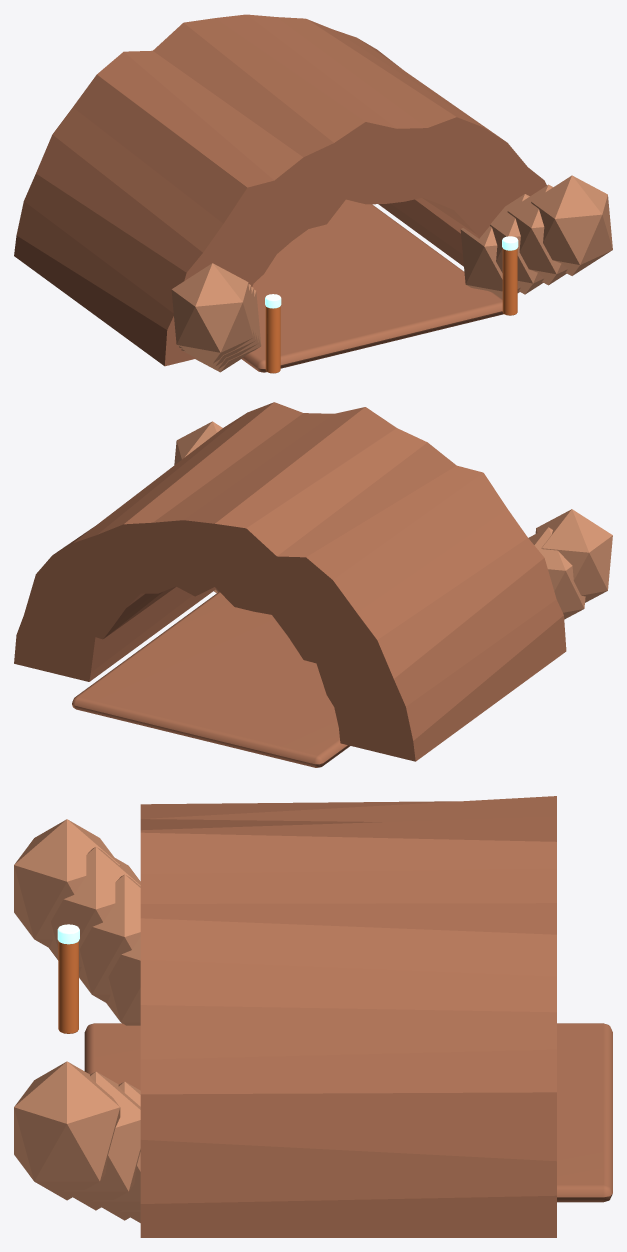
Rendered from Lava_Tube_Entrance.glb.
3 views of the same model, one above another, from view 1: azimuth 30°, elevation 25°; view 2: azimuth 150°, elevation 25°; view 3: azimuth 270°, elevation 25° (orthographic). The views are drawn at different scales.
Parts seen in each view (by area): view 1: Hollow lava tube rock arch, Tunnel floor, Basalt entrance buttress.003, Basalt entrance buttress.007, Basalt entrance buttress.006, Basalt entrance buttress.004, Basalt entrance buttress.005, Cave trail marker.001, Cave trail marker; view 2: Hollow lava tube rock arch, Tunnel floor, Basalt entrance buttress.003, Basalt entrance buttress.002, Basalt entrance buttress.007; view 3: Hollow lava tube rock arch, Tunnel floor, Basalt entrance buttress.007, Basalt entrance buttress.003, Basalt entrance buttress.001, Basalt entrance buttress.002, Basalt entrance buttress.006, Basalt entrance buttress, Cave trail marker, Basalt entrance buttress.005.
Boxes of the visible parts, x1,y1,x2,y2 form: Hollow lava tube rock arch: [14, 14, 546, 366]; Tunnel floor: [241, 199, 503, 372]; Basalt entrance buttress.003: [171, 263, 253, 363]; Basalt entrance buttress.007: [531, 175, 612, 275]; Basalt entrance buttress.006: [507, 184, 567, 285]; Basalt entrance buttress.004: [460, 226, 520, 299]; Basalt entrance buttress.005: [490, 194, 544, 294]; Cave trail marker.001: [502, 248, 517, 315]; Cave trail marker: [265, 306, 280, 373]; Hollow lava tube rock arch: [14, 402, 566, 761]; Tunnel floor: [72, 591, 349, 767]; Basalt entrance buttress.003: [535, 509, 612, 602]; Basalt entrance buttress.002: [528, 527, 585, 619]; Basalt entrance buttress.007: [174, 421, 222, 464]; Hollow lava tube rock arch: [140, 796, 556, 1237]; Tunnel floor: [84, 1023, 612, 1202]; Basalt entrance buttress.007: [14, 1061, 120, 1200]; Basalt entrance buttress.003: [14, 819, 120, 947]; Basalt entrance buttress.001: [79, 874, 140, 1003]; Basalt entrance buttress.002: [49, 847, 140, 973]; Basalt entrance buttress.006: [62, 1071, 140, 1210]; Basalt entrance buttress: [106, 937, 140, 1025]; Cave trail marker: [58, 941, 78, 1033]; Basalt entrance buttress.005: [91, 1081, 140, 1220].
Size of the model in its own units: 4.3 by 2.09 by 3.74.
